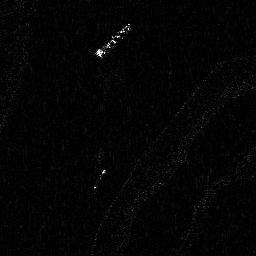ship: (94, 21, 132, 57)
